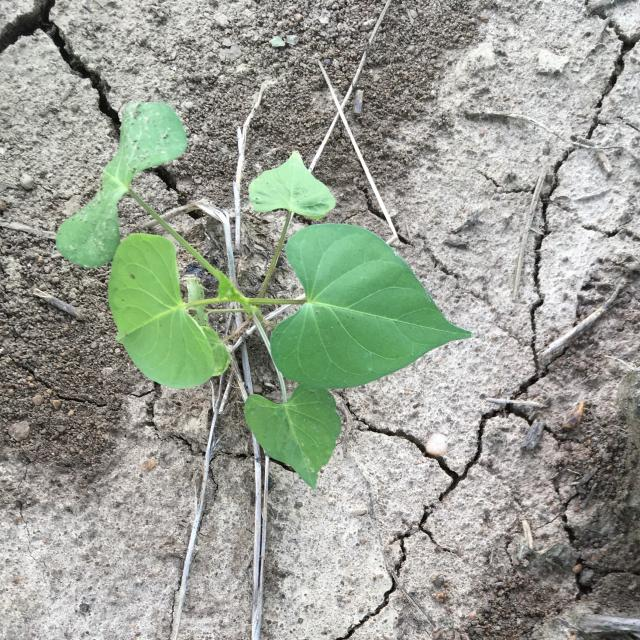MorningGlory: (56, 102, 473, 492)
